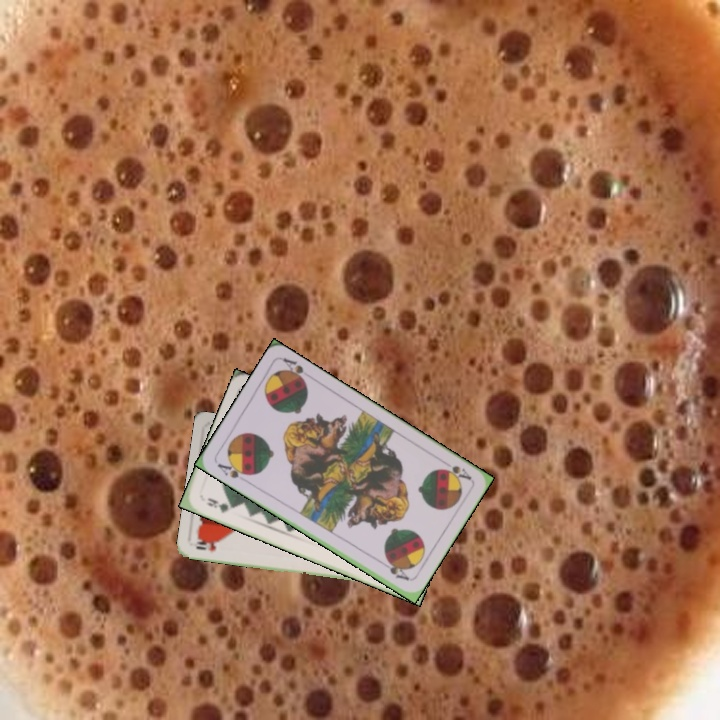G9: (203, 494, 237, 515)
HO: (191, 535, 223, 554)
SA: (436, 456, 474, 483), (213, 458, 253, 481)
